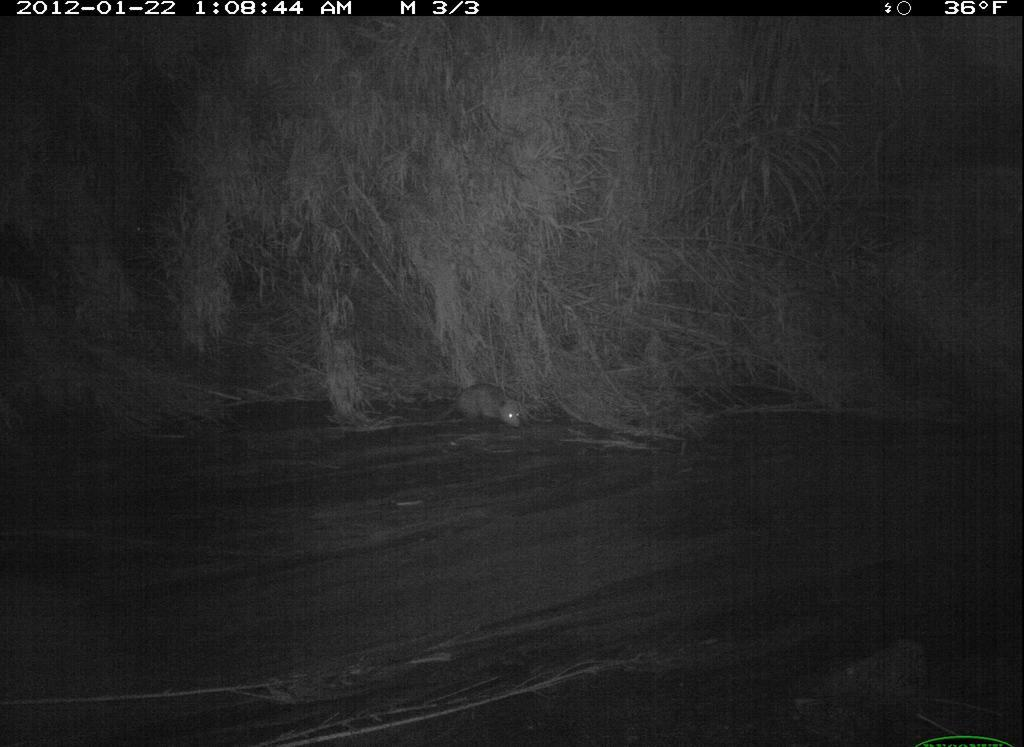opossum: (437, 378, 530, 438)
